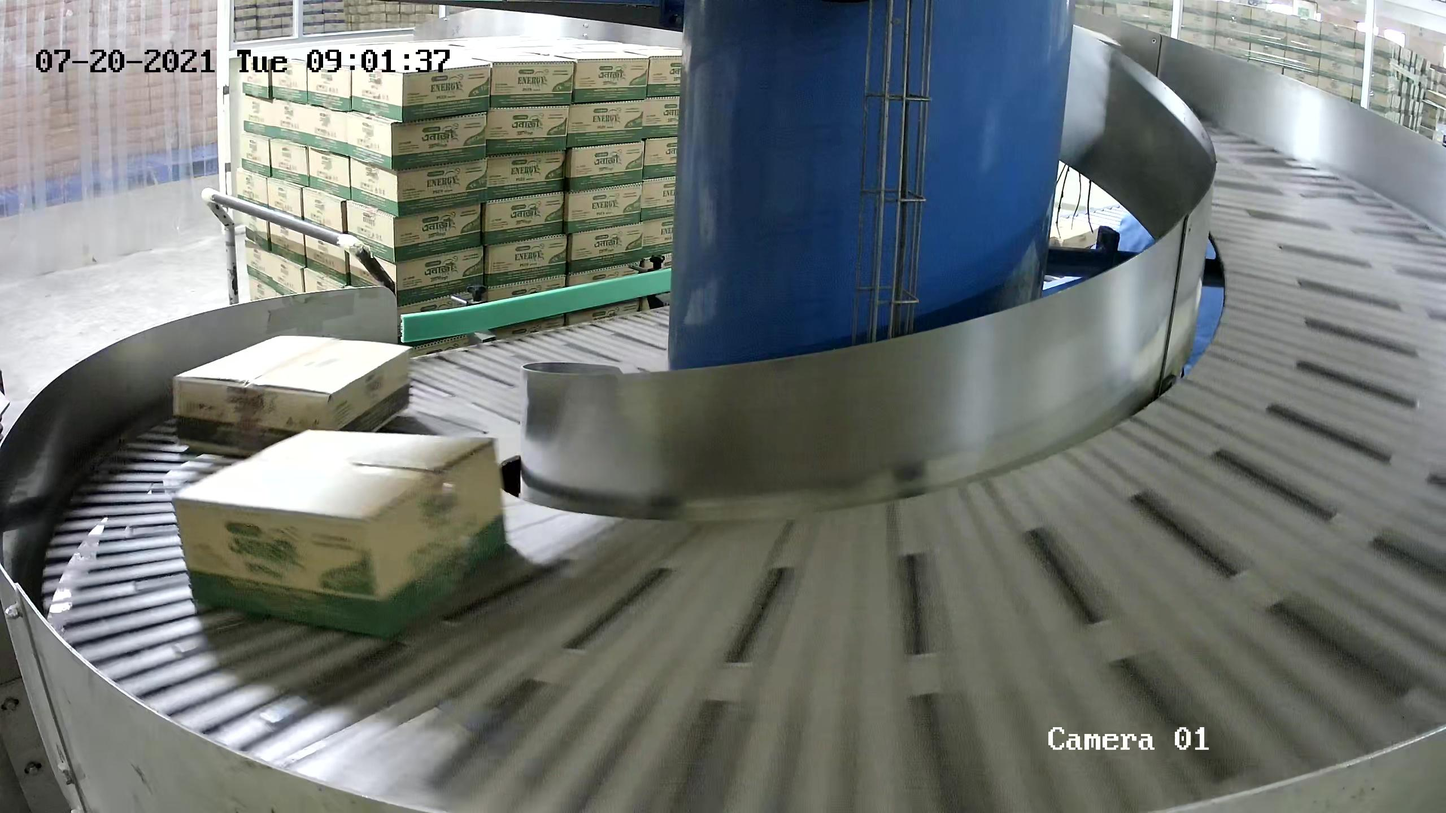Box: (170, 427, 508, 638), (171, 334, 414, 456)
